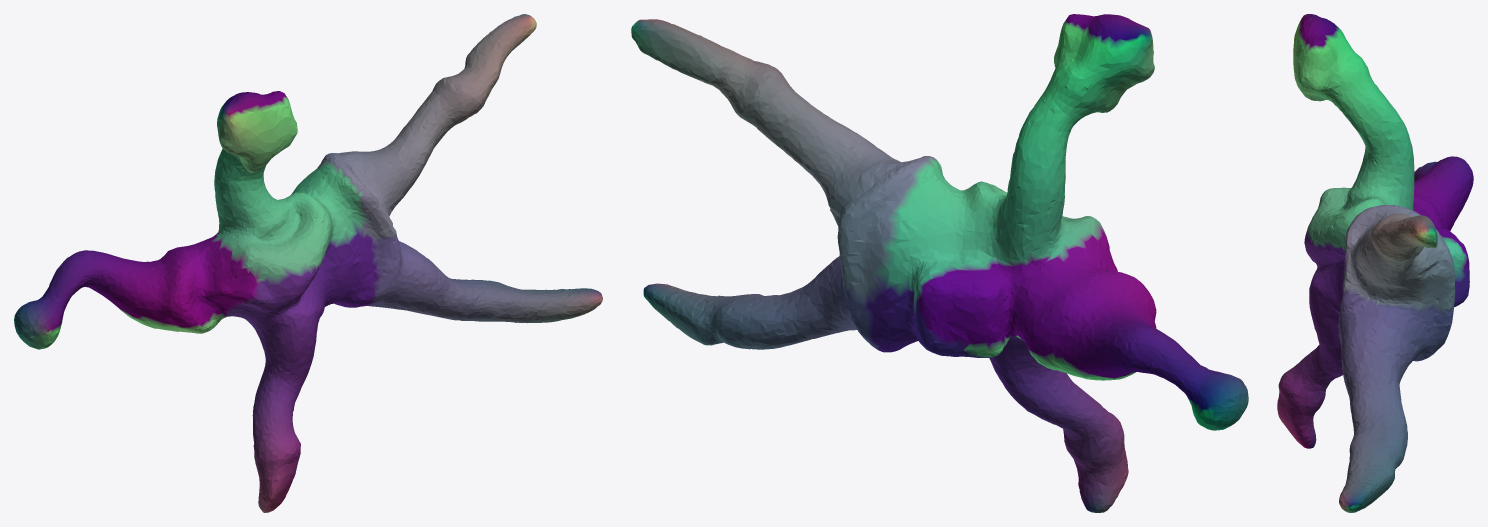
Rendered from santa-19.off.obj.
3 views of the same model, side by side, from view 1: azimuth 30°, elevation 25°; view 2: azimuth 150°, elevation 25°; view 3: azimuth 270°, elevation 25° (orthographic). The views are drawn at different scales.
Size of the model in its own units: 1.63 by 1.21 by 0.5121.
